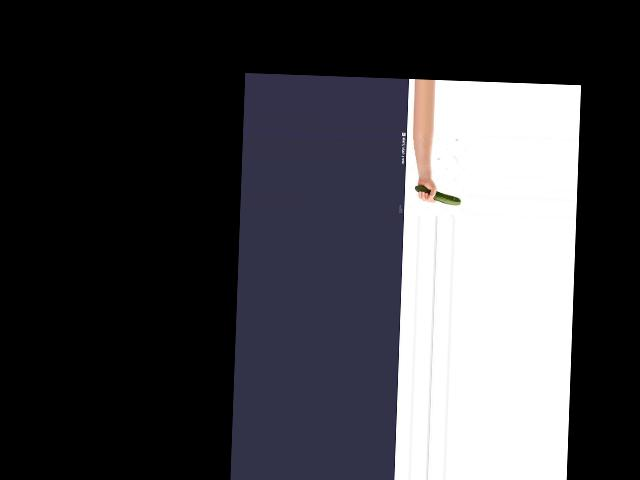cucumber: (414, 186, 461, 206)
